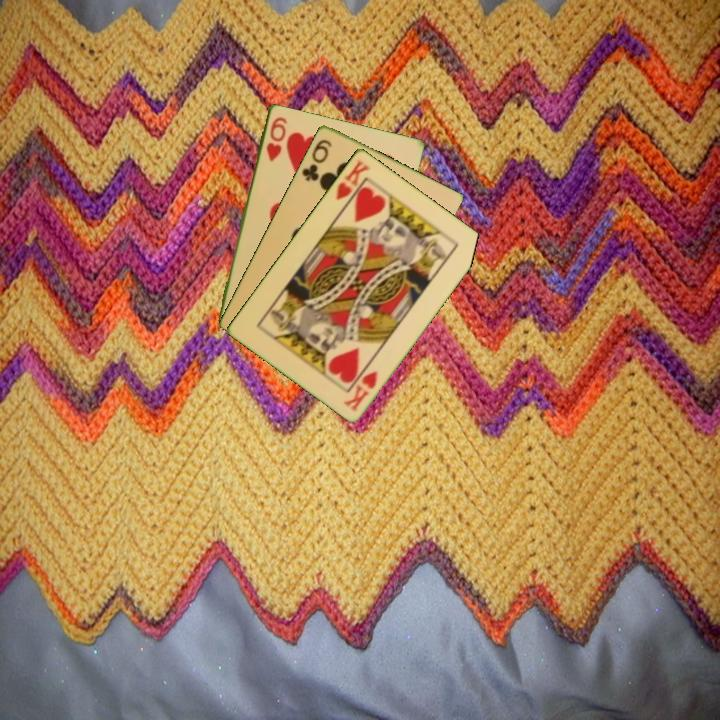6c: (298, 135, 335, 184)
6h: (262, 113, 290, 164)
Kh: (332, 156, 373, 210), (340, 367, 380, 414)
